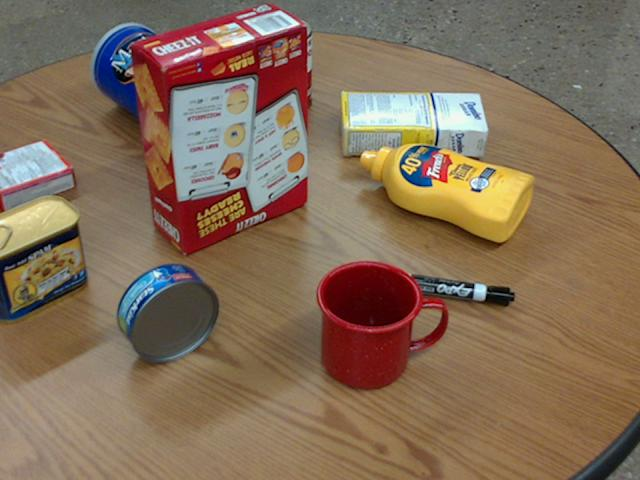cracker_box: (129, 6, 307, 254)
gelatin_box: (0, 140, 76, 212)
large_marker: (391, 271, 515, 305)
master_chef_can: (88, 24, 224, 144)
mug: (317, 259, 446, 389)
mustard_bottle: (359, 144, 533, 240)
potted_meat_can: (0, 196, 86, 324)
sugar_box: (339, 91, 489, 155)
tomato_soup_can: (256, 16, 309, 112)
tuna_fish_can: (117, 263, 219, 362)
